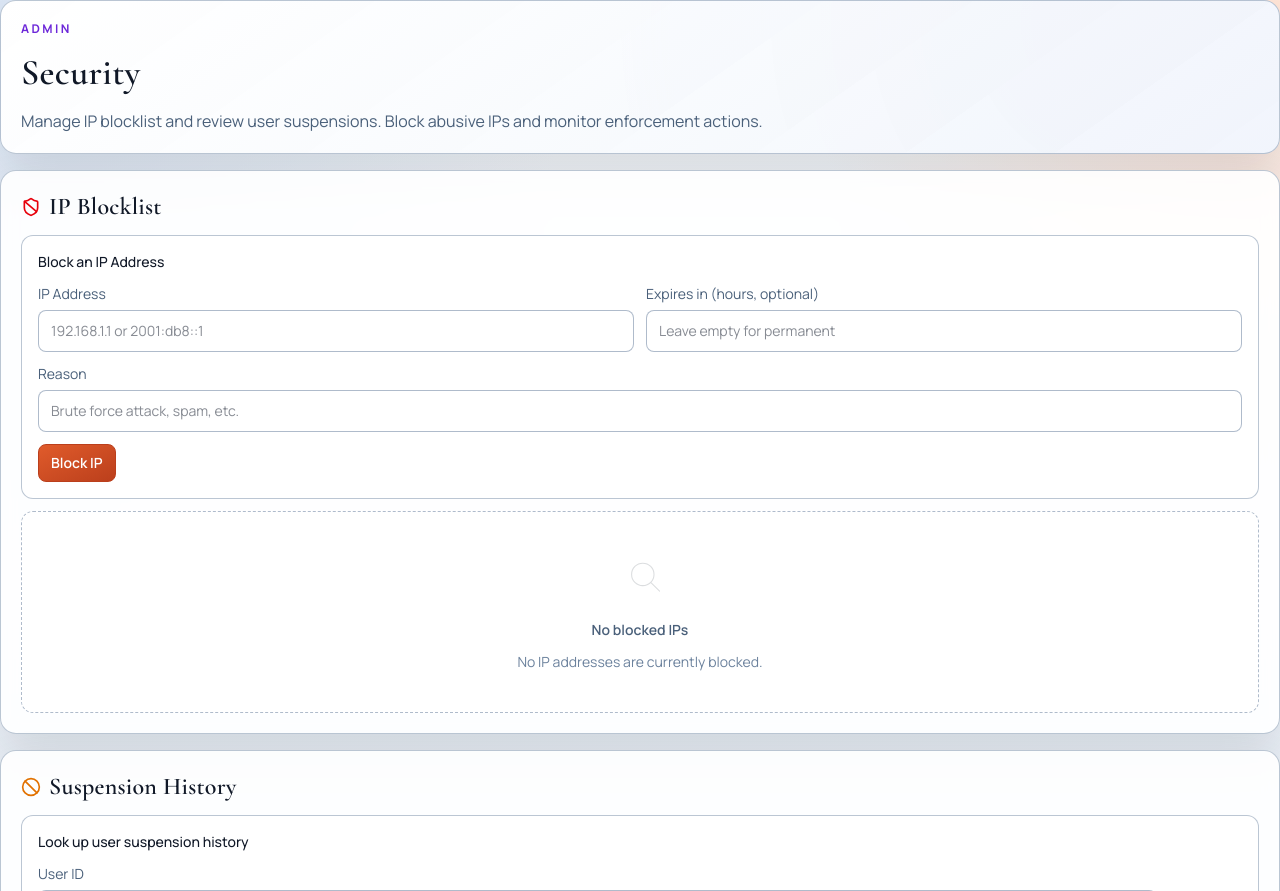
it: AdminSecurityPage › shows error toast when reason is empty but IP is filled
Expected: the text "No blocked IPs" is shown, [592,620,688,640]
Type "5.5.5.5" into the field with placeholder "192.168.1.1 or 2001:db8::1".
click(336, 331); type("5.5.5.5")  # box [38,310,634,352]
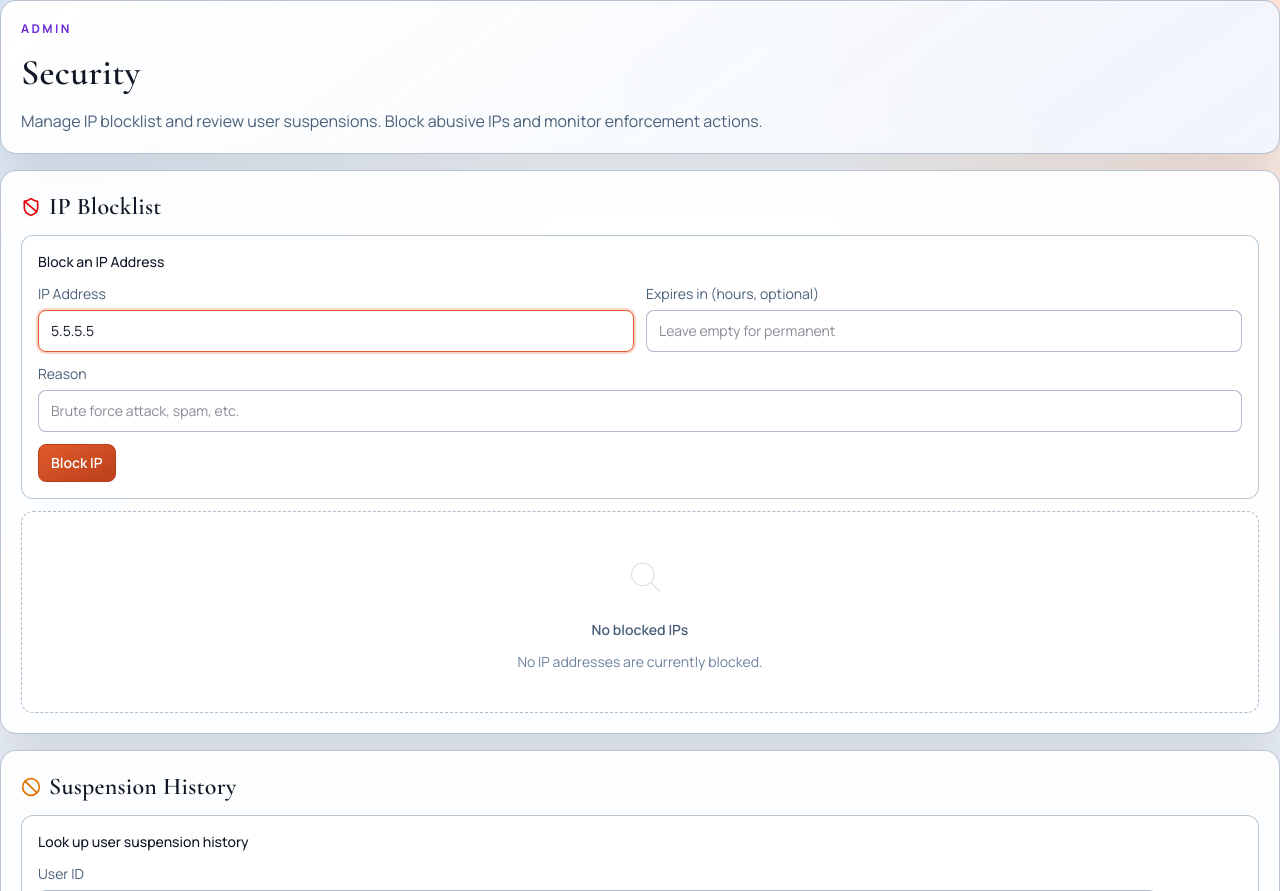
Click the button "Block IP".
click(77, 463)  # box [38,444,116,482]
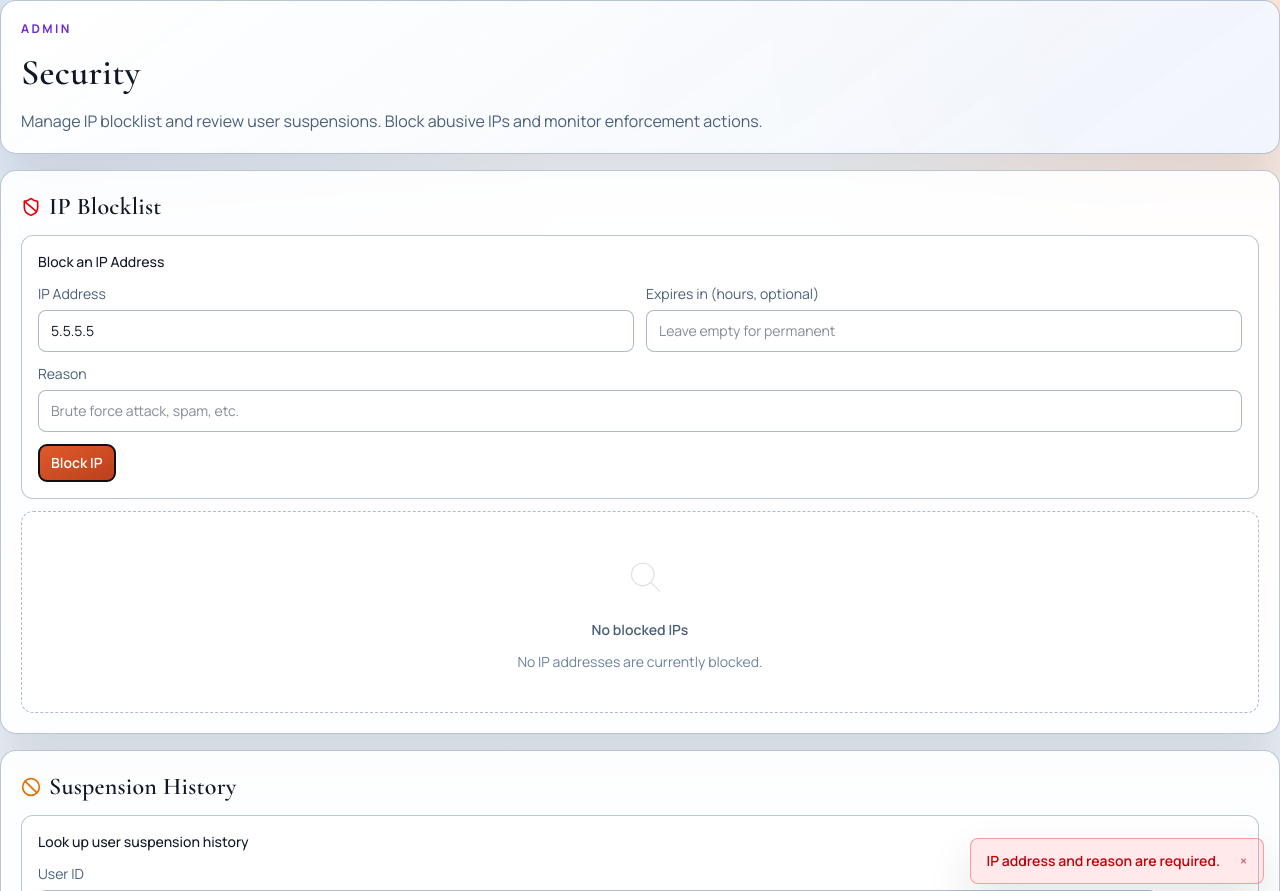
Expected: the text "IP address and reason are required." is shown, [986,851,1220,871]
